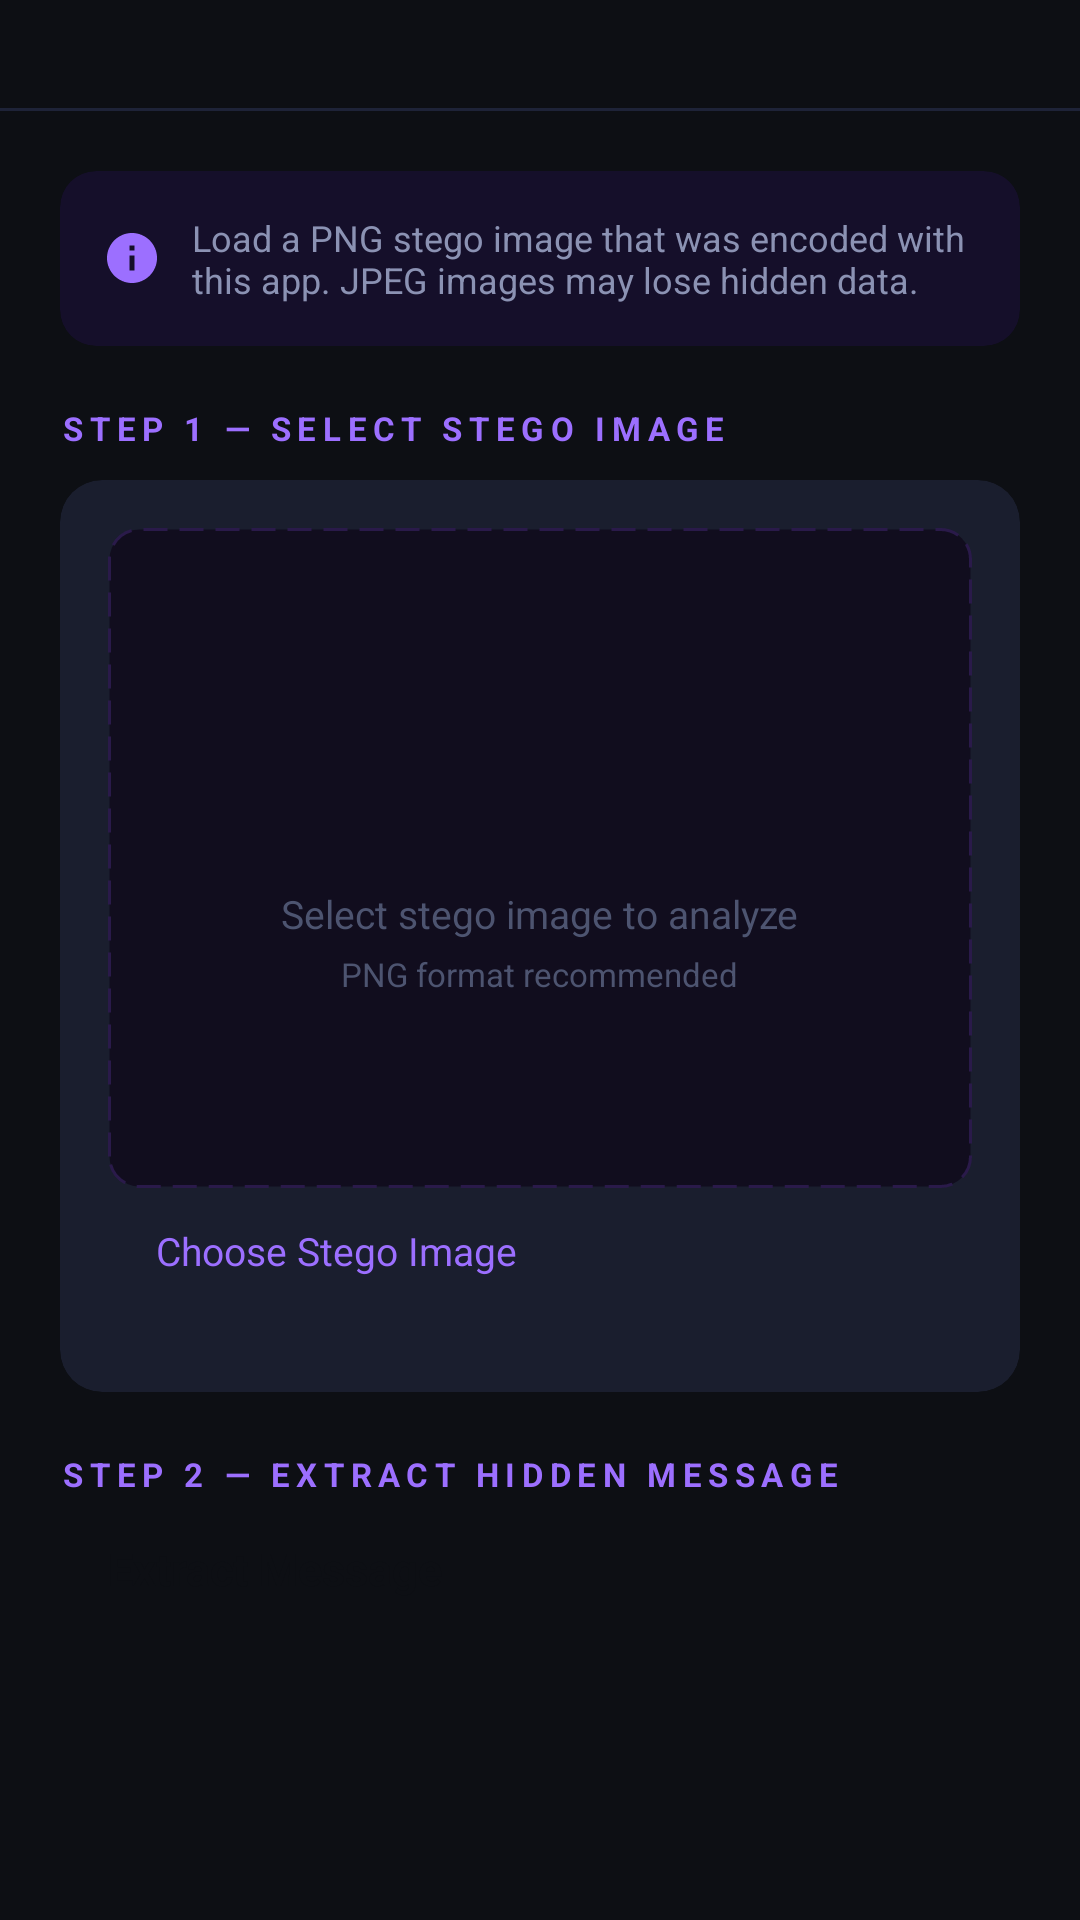

Icon click points for this 1080×1920 phone screenshot, format (x,y):
info: (132,258)
